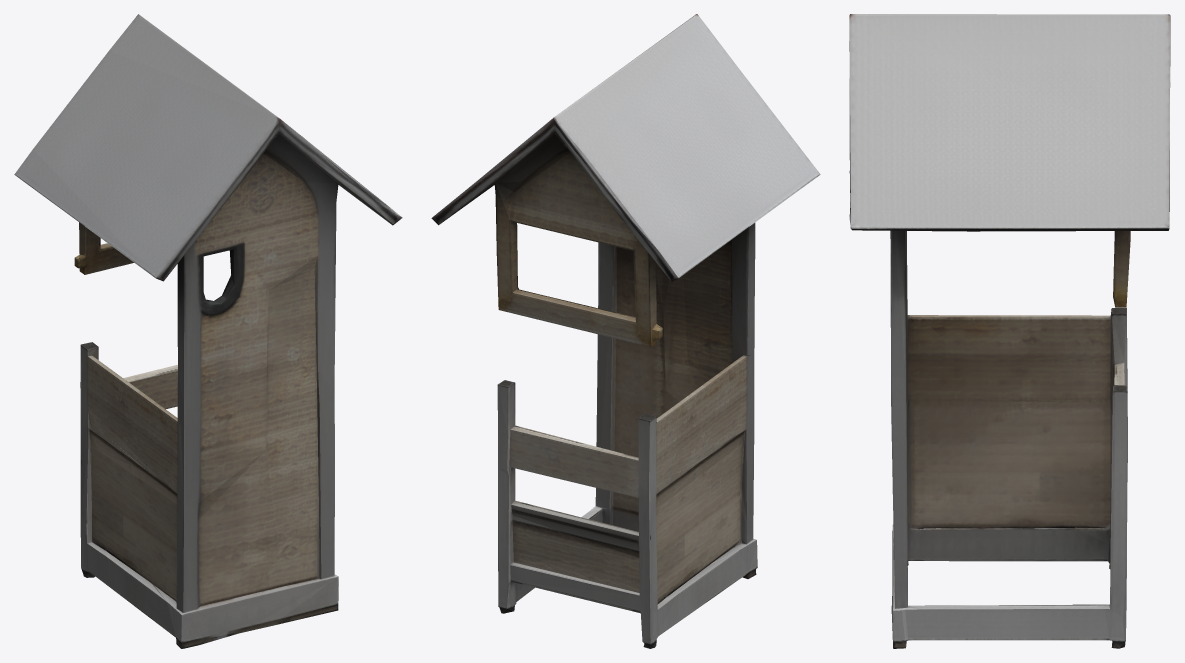
The model's file is yard-sign.glb.
The picture shows the model from 3 angles, left to right: view 1: azimuth 30°, elevation 25°; view 2: azimuth 150°, elevation 25°; view 3: azimuth 270°, elevation 25°; orthographic projection. The views are drawn at different scales.
Visible parts, largest first — view 1: world; view 2: world; view 3: world.
Part boxes in pixels (x1,y1,x2,y2): world: [14, 14, 402, 648]; world: [431, 14, 820, 648]; world: [849, 14, 1170, 648].
Bounding box in the file's own units: 9.83 × 20 × 9.82.
1 material, 1 textured.
